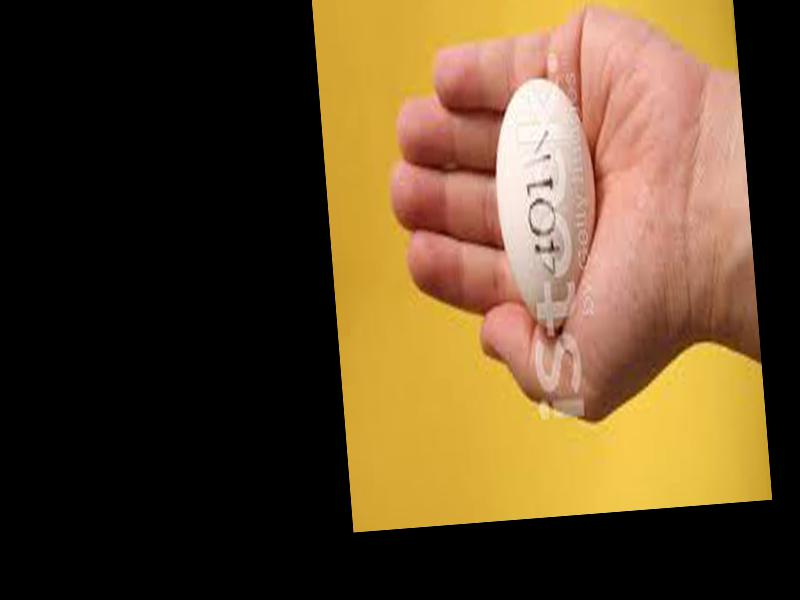Eggs: (488, 75, 604, 332)
